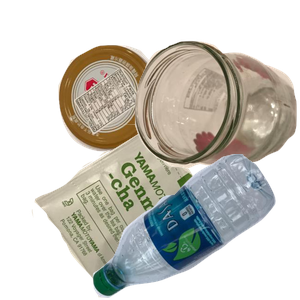glass: (132, 38, 300, 199)
metal: (56, 43, 211, 187)
plastic: (90, 154, 300, 300)
trash: (29, 124, 238, 300)
